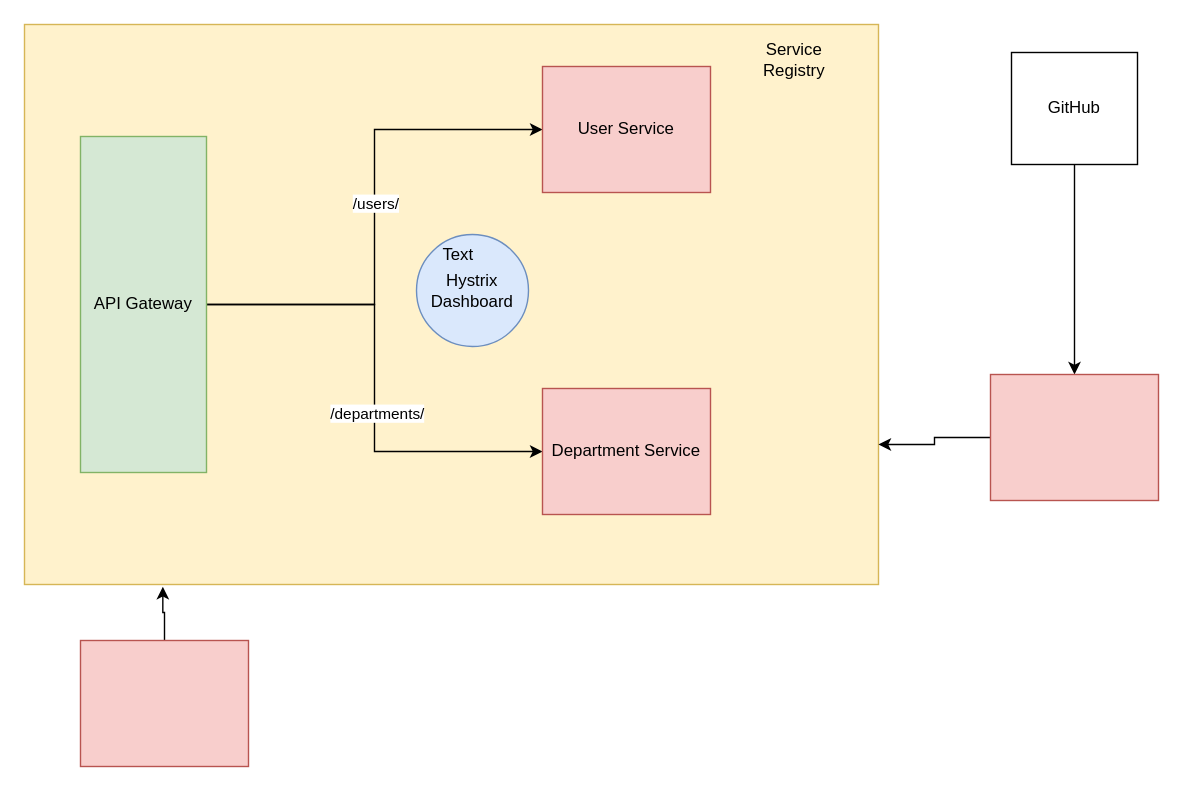
Image size: 1183x791. Some labels were removed from this diagram. The centre of each missing label's shape, as x and y in pixels:
Config Server: point 1073,436
Zipkin Server: point 163,702
